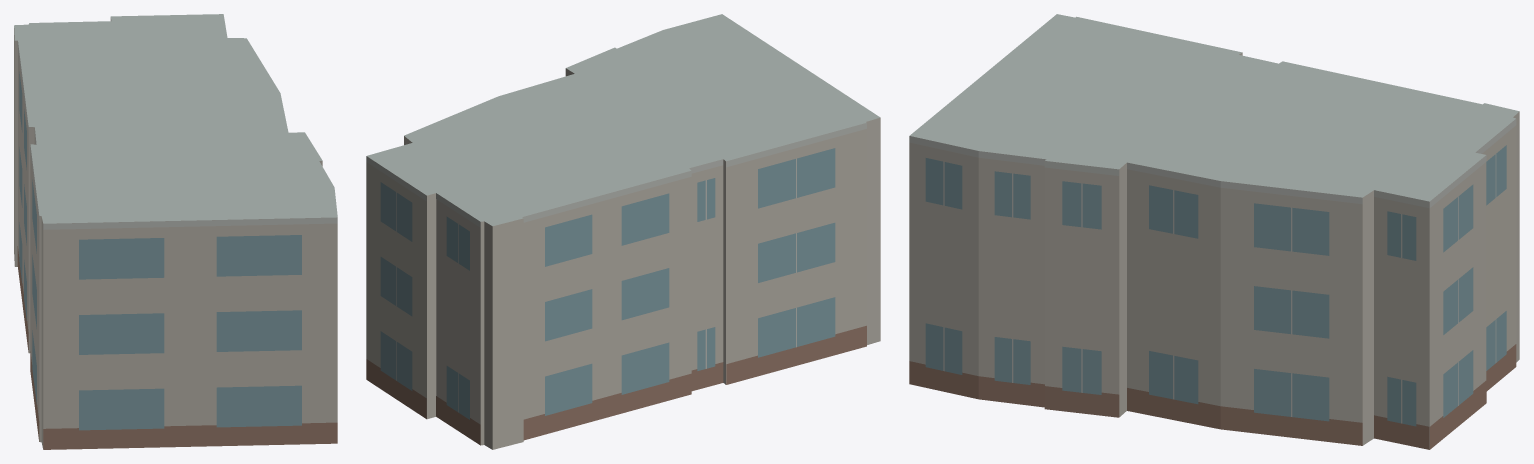
File: survey-upis-32628916.glb
3 renders of one model, left to right at view 1: azimuth 30°, elevation 25°; view 2: azimuth 150°, elevation 25°; view 3: azimuth 270°, elevation 25°, orthographic. The views are drawn at different scales.
Parts seen in each view (by area): view 1: survey-upis-32628916.tmp; view 2: survey-upis-32628916.tmp; view 3: survey-upis-32628916.tmp.
Part boxes in pixels (x1=…): survey-upis-32628916.tmp: x1=14, y1=14, x2=337, y2=449; survey-upis-32628916.tmp: x1=366, y1=14, x2=880, y2=449; survey-upis-32628916.tmp: x1=909, y1=14, x2=1519, y2=449.
Size of the model in its own units: 14.66 by 9.04 by 20.14.
